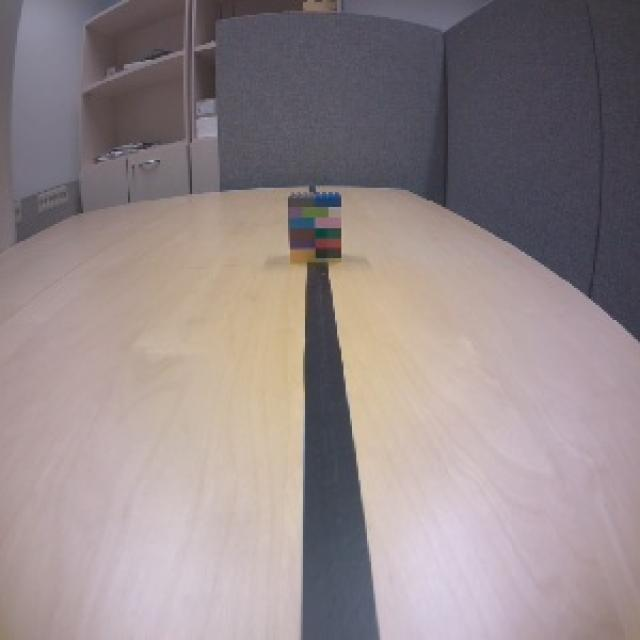obstacle: (286, 190, 344, 264)
